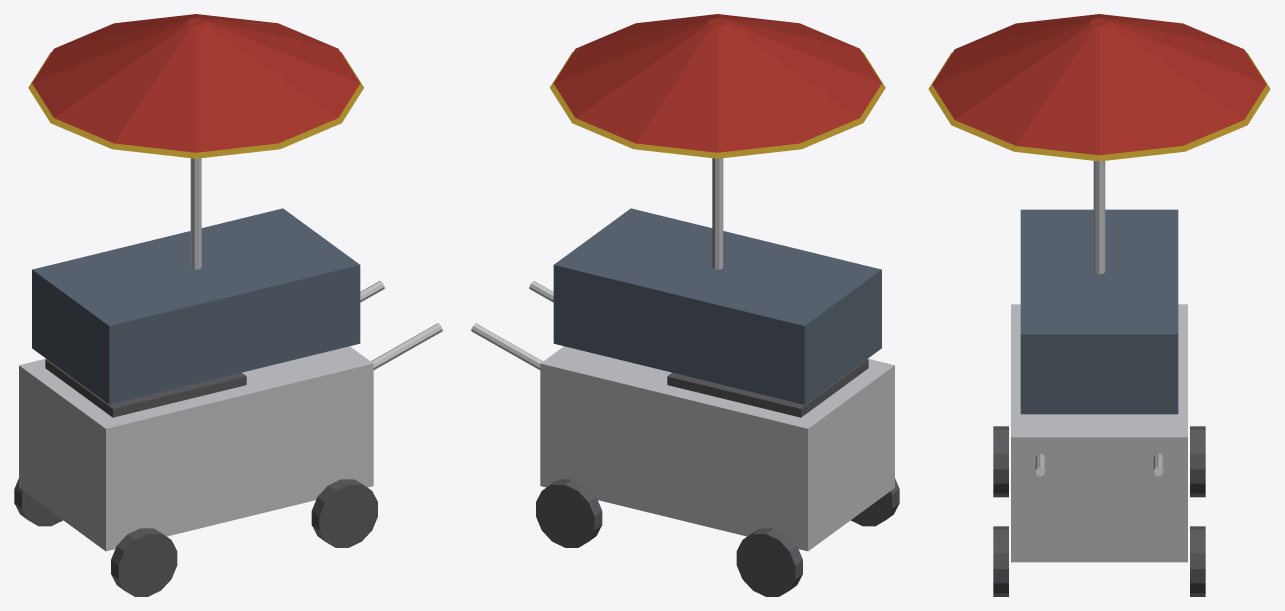
Rendered from hotdog-cart.glb.
3 views of the same model, side by side, from view 1: azimuth 30°, elevation 25°; view 2: azimuth 150°, elevation 25°; view 3: azimuth 270°, elevation 25° (orthographic).
Visible parts, largest first — view 1: Cube, Cube.002, Cone, Cylinder, Cylinder.002, Cube.001, Cone.001, Cylinder.004, Cylinder.001, Cylinder.005; view 2: Cube, Cube.002, Cone, Cylinder.001, Cylinder.003, Cube.001, Cone.001, Cylinder.004, Cylinder, Cylinder.006; view 3: Cone, Cube.002, Cube, Cone.001, Cylinder.004, Cylinder, Cylinder.001, Cylinder.002, Cylinder.003.
Part boxes in pixels (<box>): Cube: <box>19,346,373,551</box>; Cube.002: <box>32,208,360,404</box>; Cone: <box>32,14,360,152</box>; Cylinder: <box>111,528,177,596</box>; Cylinder.002: <box>311,479,377,547</box>; Cube.001: <box>45,359,246,417</box>; Cone.001: <box>28,52,363,158</box>; Cylinder.004: <box>190,158,201,269</box>; Cylinder.001: <box>14,478,62,526</box>; Cylinder.005: <box>371,323,442,369</box>; Cube: <box>540,346,894,551</box>; Cube.002: <box>553,208,881,404</box>; Cone: <box>553,14,881,152</box>; Cylinder.001: <box>736,528,802,596</box>; Cylinder.003: <box>536,479,602,547</box>; Cube.001: <box>667,359,868,417</box>; Cone.001: <box>550,52,885,158</box>; Cylinder.004: <box>712,158,723,269</box>; Cylinder: <box>851,478,899,526</box>; Cylinder.006: <box>471,323,542,369</box>; Cone: <box>932,14,1266,155</box>; Cube.002: <box>1020,209,1178,414</box>; Cube: <box>1011,304,1187,562</box>; Cone.001: <box>928,52,1270,161</box>; Cylinder.004: <box>1093,161,1105,274</box>; Cylinder: <box>993,426,1008,497</box>; Cylinder.001: <box>1190,426,1205,497</box>; Cylinder.002: <box>993,526,1008,596</box>; Cylinder.003: <box>1190,526,1205,596</box>.
Size of what is drawn, in the model's own units: 2.16 by 2.92 by 1.74.
